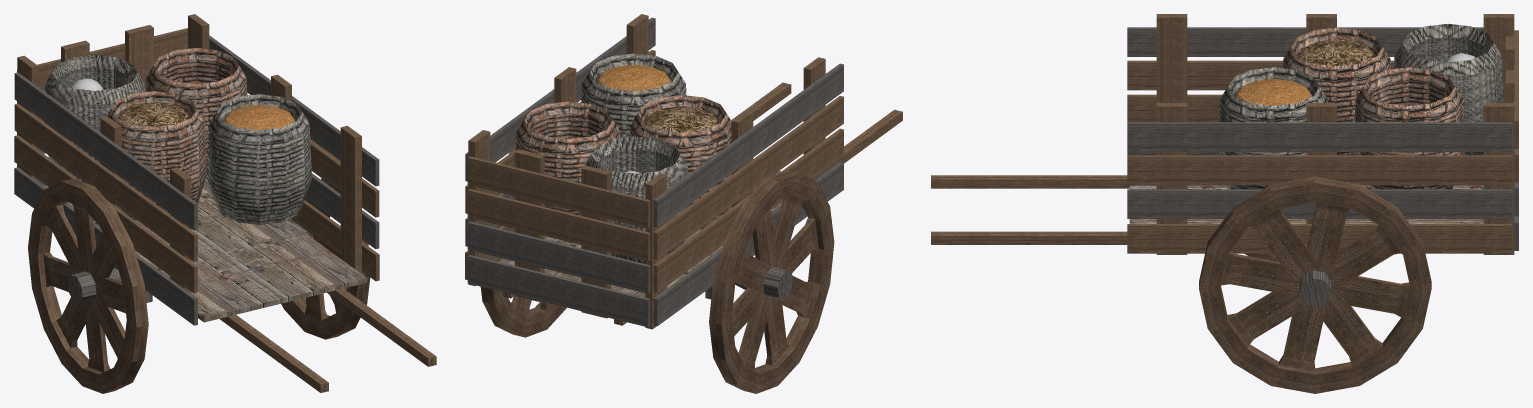
File: cart_bakul.FBX
The picture shows the model from 3 angles, left to right: view 1: azimuth 30°, elevation 25°; view 2: azimuth 150°, elevation 25°; view 3: azimuth 270°, elevation 25°; orthographic projection. The views are drawn at different scales.
Parts seen in each view (by area): view 1: Tube01, Box01_ncl1_1, Cylinder03, Cart, Cylinder04, Box12, Box11, Cylinder01_ncl1_1, Cylinder02, Box08, Box07, Tube02 (+6 smaller); view 2: Tube01, Cart, Box12, Box11, Cylinder01_ncl1_1, Box15, Box14, Box16, Box17, Cylinder04, Cylinder03, Cylinder02 (+6 smaller); view 3: Tube02, Cart, Box13, Box10, Box09, Box01, Cylinder02, Cylinder01_ncl1_1, Cylinder04, Cylinder03, Box12, Box11 (+4 smaller).
Boxes of the visible parts, x1,y1,x2,y2 form: Tube01: (28,178,148,393); Box01_ncl1_1: (44,176,367,322); Cylinder03: (207,94,312,224); Cart: (17,14,436,392); Cylinder04: (107,91,206,220); Box12: (14,72,197,230); Box11: (14,103,197,261); Cylinder01_ncl1_1: (145,48,247,176); Cylinder02: (43,55,145,182); Box08: (14,135,197,293); Box07: (14,167,197,325); Tube02: (281,139,370,339); Tube01: (709,170,834,393); Cart: (468,14,902,329); Box12: (653,63,843,227); Box11: (653,96,843,259); Cylinder01_ncl1_1: (515,101,620,215); Box15: (467,189,650,261); Box14: (467,156,650,228); Box16: (467,221,650,293); Box17: (467,255,650,327); Cylinder04: (630,95,731,228); Cylinder03: (581,53,686,137); Cylinder02: (584,136,689,263); Tube02: (1199,176,1431,393); Cart: (931,14,1514,254); Box13: (1127,122,1512,151); Box10: (1127,155,1512,185); Box09: (1127,189,1512,218); Box01: (1127,224,1512,253); Cylinder02: (1394,23,1503,155); Cylinder01_ncl1_1: (1353,67,1465,189); Cylinder04: (1283,27,1390,155); Cylinder03: (1217,67,1327,189); Box12: (1127,27,1483,56); Box11: (1127,60,1394,90).
Size of the model in its own units: 57.59 by 55.97 by 110.
